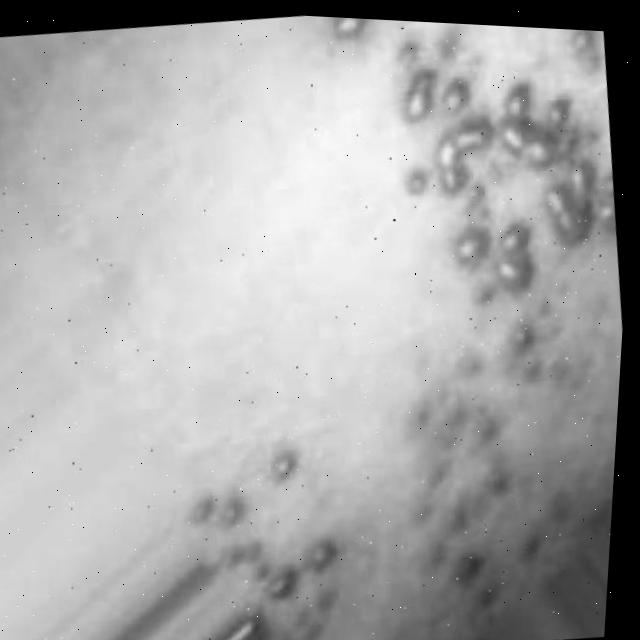Shingles: (290, 17, 640, 619), (176, 437, 337, 630)
